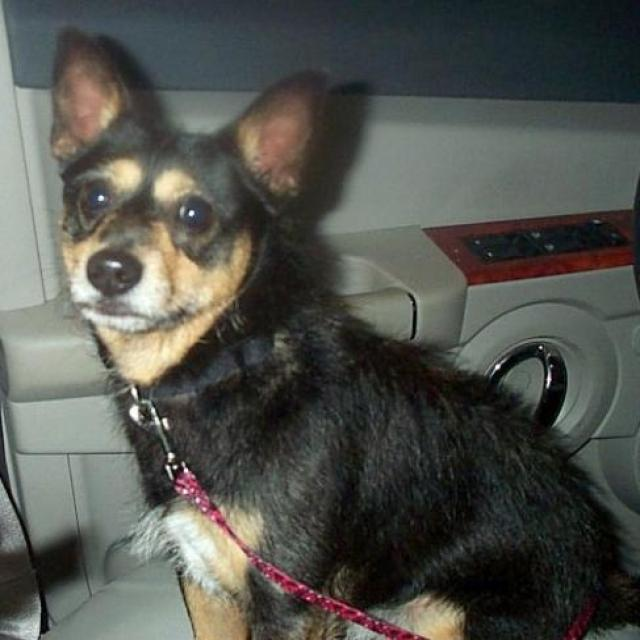Dogs: (46, 24, 639, 639)
